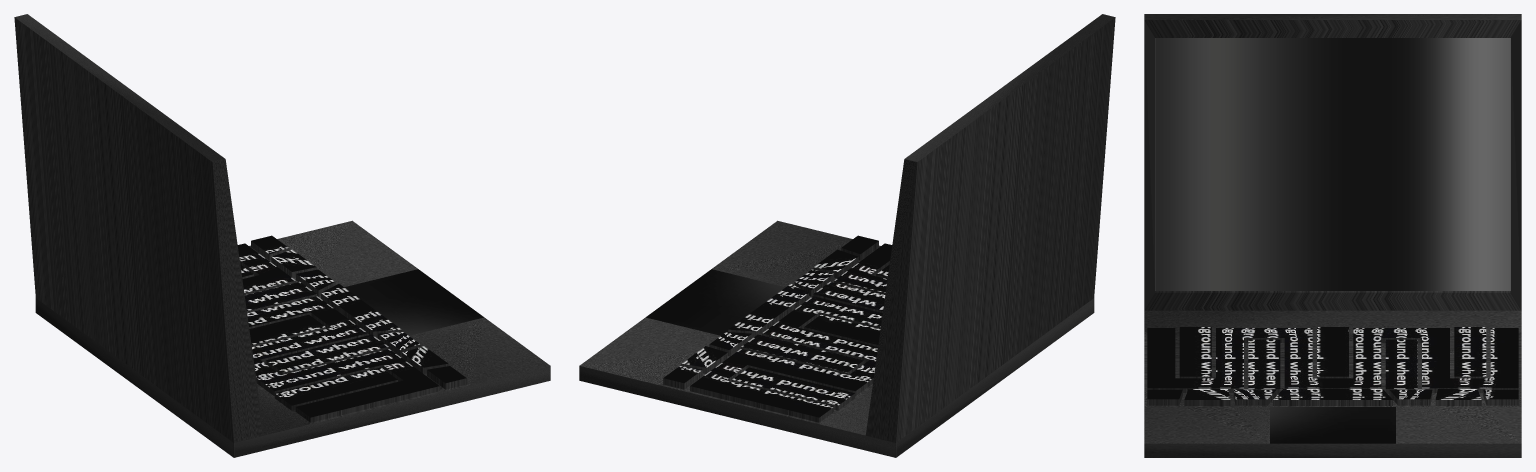
File: laptopProp.fbx
3 views of the same model, side by side, from view 1: azimuth 30°, elevation 25°; view 2: azimuth 150°, elevation 25°; view 3: azimuth 270°, elevation 25° (orthographic). The views are drawn at different scales.
Parts seen in each view (by area): view 1: Box001; view 2: Box001; view 3: Box001.
Part boxes in pixels (x1=…): Box001: x1=14, y1=14, x2=550, y2=457; Box001: x1=579, y1=14, x2=1115, y2=457; Box001: x1=1144, y1=14, x2=1521, y2=457.
Size of the model in its own units: 33.3 by 28.33 by 33.81.
Materials: 3 (3 with a texture image).
